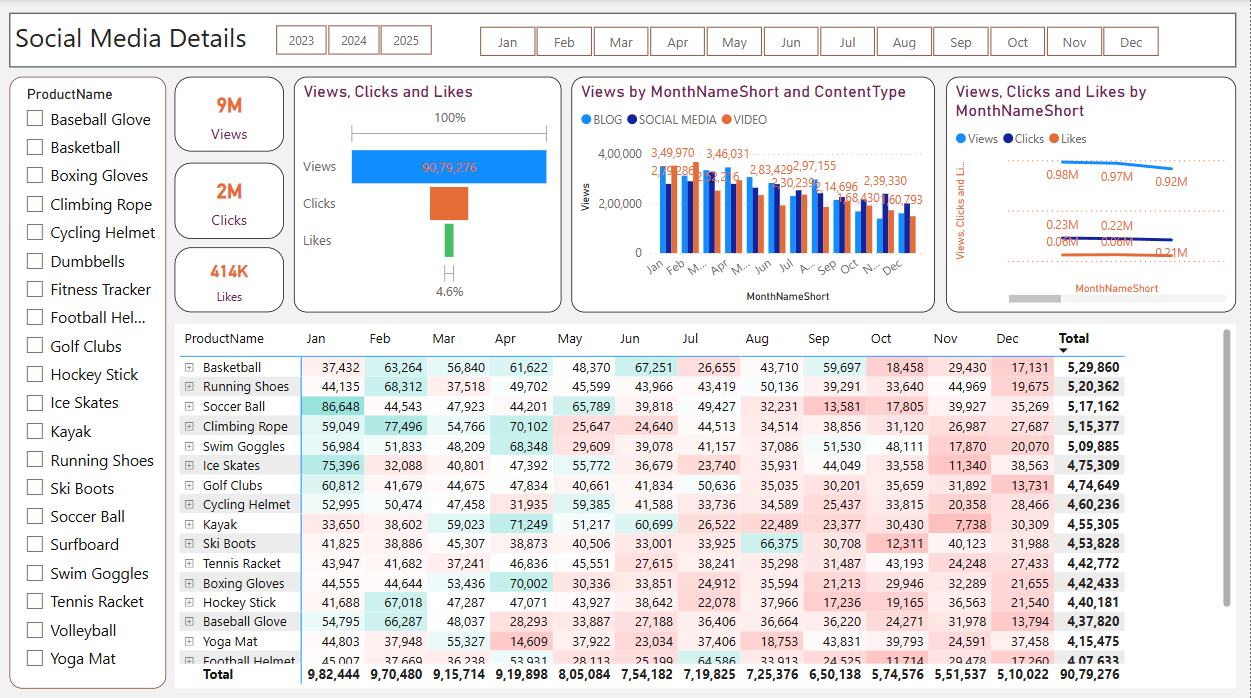

Layout of this report page (visuals, bound fields, positions):
{"tool":"powerbi","page":{"name":"Social Media Details","canvas":[1280,720],"ordinal":2},"visuals":[{"type":"textbox","box":[12.8,14.2,1252.5,55.3],"z":0},{"type":"slicer","fields":{"Values":["dim_products.ProductName"]},"box":[12.8,79.3,160.1,624.8],"z":1000},{"type":"lineChart","fields":{"Y":["_Calculations.Views","_Calculations.Clicks","_Calculations.Likes"],"Category":["Calendar.MonthNameShort"]},"box":[969.2,79.3,296.1,240.9],"z":2000},{"type":"funnel","fields":{"Y":["_Calculations.Views","_Calculations.Clicks","_Calculations.Likes"]},"box":[303.2,79.3,273.5,240.9],"z":3000},{"type":"card","fields":{"Values":["_Calculations.Views"]},"box":[181.4,79.3,111.9,76.5],"z":4000},{"type":"card","fields":{"Values":["_Calculations.Clicks"]},"box":[181.4,167.2,111.9,77.9],"z":5000},{"type":"card","fields":{"Values":["_Calculations.Likes"]},"box":[181.4,253.6,111.9,66.6],"z":6000},{"type":"slicer","fields":{"Values":["Calendar.MonthNameShort"]},"box":[467.6,21.3,742.4,43.9],"z":7000},{"type":"slicer","fields":{"Values":["Calendar.Year"]},"box":[259.3,19.8,208.3,43.9],"z":8000},{"type":"pivotTable","fields":{"Rows":["dim_products.ProductName","fact_engagement.ContentType"],"Values":["_Calculations.Views"],"Columns":["Calendar.MonthNameShort"]},"box":[181.4,331.6,1083.9,372.6],"z":9000},{"type":"clusteredColumnChart","fields":{"Category":["Calendar.MonthNameShort"],"Series":["fact_engagement.ContentType"],"Y":["_Calculations.Views"]},"box":[586.6,79.3,371.2,240.9],"z":10000}]}

Visuals, with their boxes in screenshot pixels (x1, y1, x2, y2), scaled from the page's 1280x720 canvas onto the 1251x698 screenshot:
textbox: left=13, top=14, right=1237, bottom=67
slicer - dim_products.ProductName: left=13, top=77, right=169, bottom=683
lineChart - _Calculations.Views x _Calculations.Clicks: left=947, top=77, right=1237, bottom=310
funnel - _Calculations.Views x _Calculations.Clicks: left=296, top=77, right=564, bottom=310
card - _Calculations.Views: left=177, top=77, right=287, bottom=151
card - _Calculations.Clicks: left=177, top=162, right=287, bottom=238
card - _Calculations.Likes: left=177, top=246, right=287, bottom=310
slicer - Calendar.MonthNameShort: left=457, top=21, right=1183, bottom=63
slicer - Calendar.Year: left=253, top=19, right=457, bottom=62
pivotTable - dim_products.ProductName x fact_engagement.ContentType: left=177, top=321, right=1237, bottom=683
clusteredColumnChart - Calendar.MonthNameShort x fact_engagement.ContentType: left=573, top=77, right=936, bottom=310
